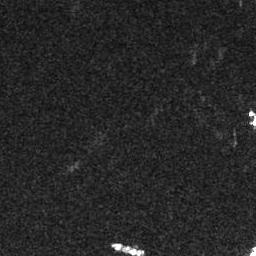ship: (109, 241, 146, 256)
